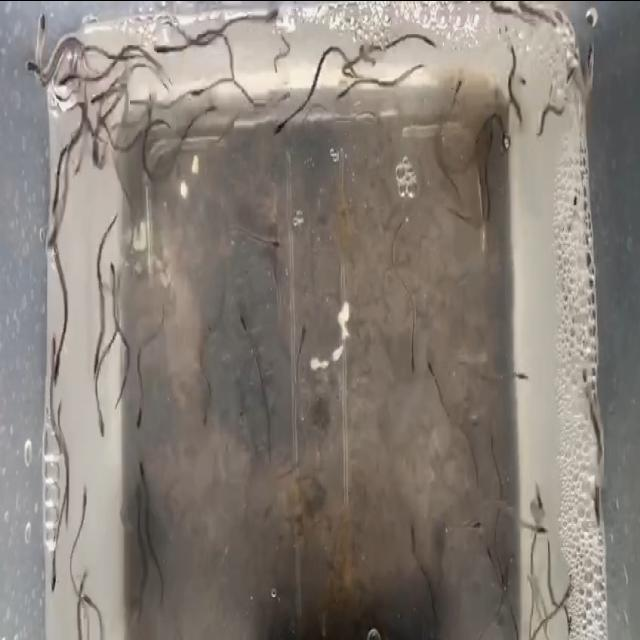inactive_glass_eel: (284, 289, 318, 349), (69, 476, 101, 536), (255, 0, 292, 46), (392, 321, 420, 381), (406, 498, 431, 564), (128, 449, 158, 495), (184, 390, 214, 433), (47, 334, 69, 392), (528, 504, 556, 548), (442, 72, 474, 109), (578, 42, 608, 80), (462, 501, 487, 546), (59, 68, 89, 104), (268, 110, 297, 146), (42, 210, 64, 256), (40, 546, 64, 588), (108, 270, 132, 310), (128, 398, 154, 434), (90, 403, 110, 448), (235, 305, 253, 351), (150, 41, 177, 71), (337, 81, 362, 113), (482, 535, 500, 578), (90, 88, 114, 120), (201, 98, 221, 132), (418, 344, 438, 376), (517, 351, 531, 395), (266, 228, 284, 262), (88, 348, 106, 380), (499, 125, 513, 164), (34, 3, 50, 33), (22, 54, 38, 82), (186, 81, 204, 102)
